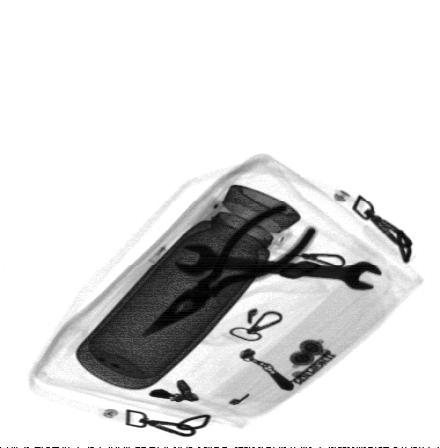Pliers: (139, 204, 320, 335)
Wrench: (173, 243, 383, 293)
